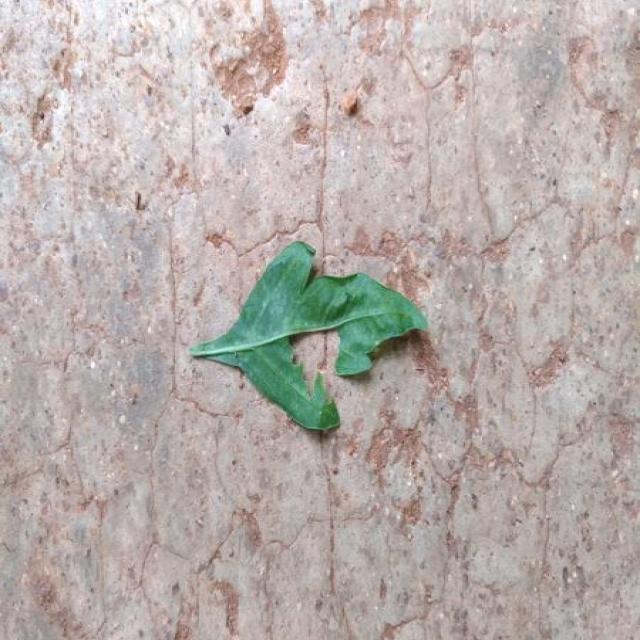defectedballoon_Vine: (190, 241, 427, 431)
disease in leaf: (190, 241, 427, 431)
